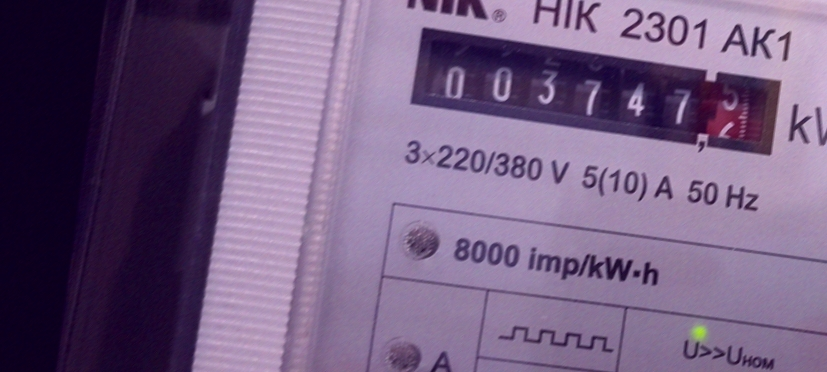0: (489, 62, 514, 103), (442, 63, 468, 100)
3: (535, 67, 559, 106)
4: (623, 78, 649, 120)
5: (719, 82, 742, 112)
6: (715, 117, 736, 140)
7: (666, 84, 694, 127), (578, 76, 603, 117)
screen: (399, 15, 798, 173)
